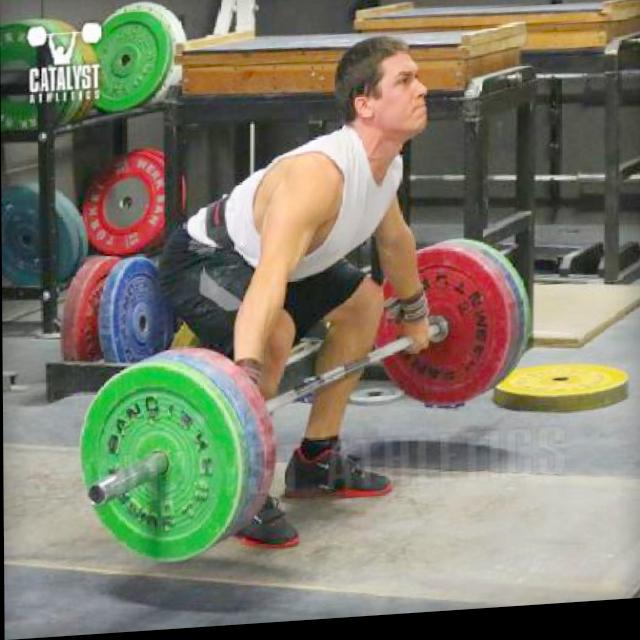barbell: (73, 356, 246, 576)
